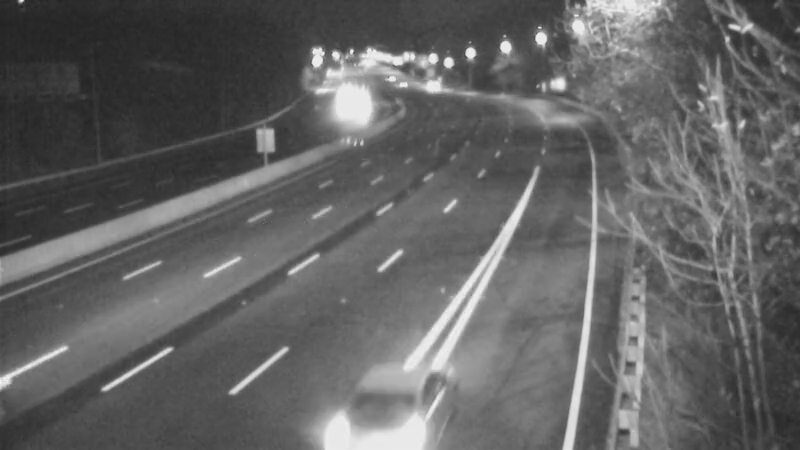vehicle: (318, 347, 428, 450), (377, 57, 427, 107), (403, 60, 453, 110), (326, 81, 376, 131)
